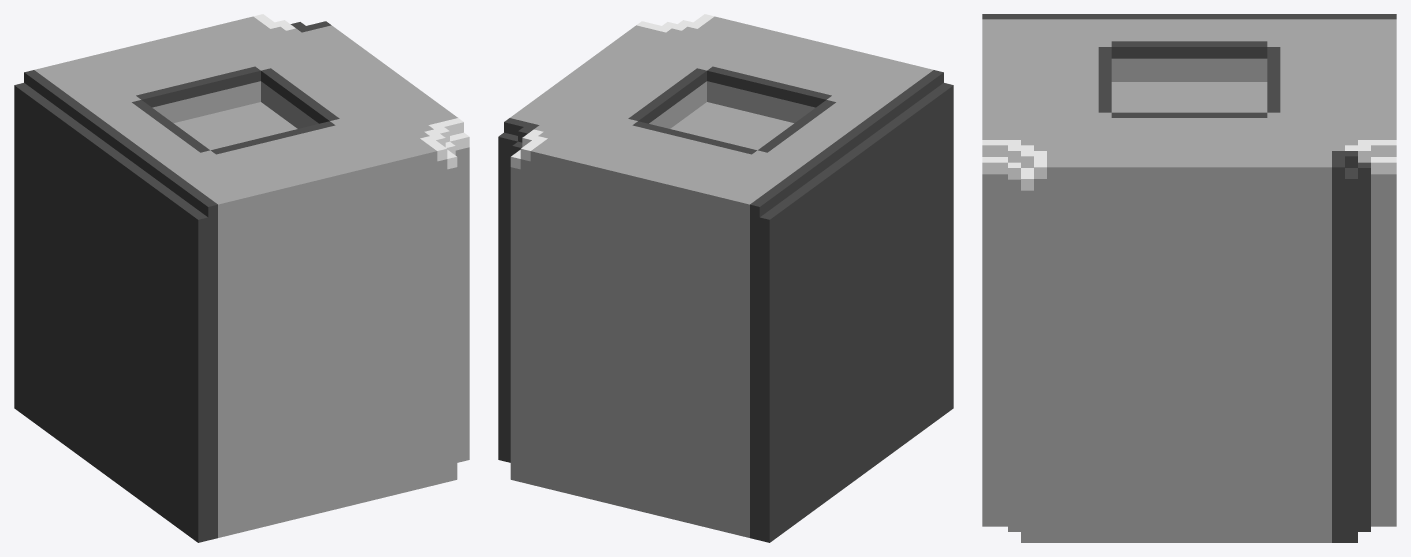
The model's file is 3JointW.obj.
The picture shows the model from 3 angles, left to right: view 1: azimuth 30°, elevation 25°; view 2: azimuth 150°, elevation 25°; view 3: azimuth 270°, elevation 25°; orthographic projection. The views are drawn at different scales.
Bounding box in the file's own units: 29 × 32 × 32.
1 material, 1 textured.
